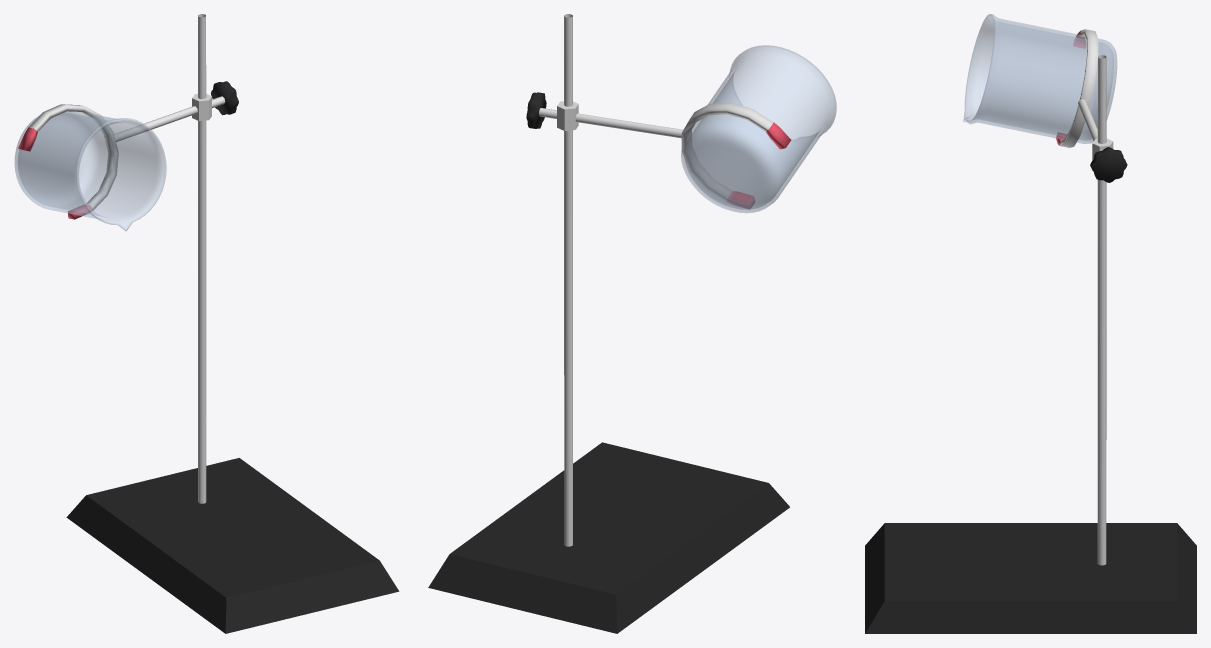
Rendered from emitter_beaker.glb.
3 renders of one model, left to right at view 1: azimuth 30°, elevation 25°; view 2: azimuth 150°, elevation 25°; view 3: azimuth 270°, elevation 25°, orthographic. The views are drawn at different scales.
Visible parts, largest first — view 1: Cube, Flask 2.002, NurbsPath.001, Circle.028, NurbsPath, Circle.030; view 2: Cube, Flask 2.002, NurbsPath.001, Circle.028, NurbsPath, Circle.030; view 3: Cube, Flask 2.002, NurbsPath.001, Circle.028, Circle.030.
Part boxes in pixels (bbox=[...]): Cube: bbox=[66, 458, 399, 633]; Flask 2.002: bbox=[14, 111, 166, 230]; NurbsPath.001: bbox=[198, 14, 206, 503]; Circle.028: bbox=[18, 104, 118, 219]; NurbsPath: bbox=[114, 96, 225, 141]; Circle.030: bbox=[211, 81, 238, 115]; Cube: bbox=[428, 442, 789, 633]; Flask 2.002: bbox=[681, 45, 836, 213]; NurbsPath.001: bbox=[564, 14, 572, 546]; Circle.028: bbox=[681, 102, 791, 208]; NurbsPath: bbox=[539, 108, 683, 138]; Circle.030: bbox=[526, 92, 546, 128]; Cube: bbox=[865, 523, 1196, 633]; Flask 2.002: bbox=[963, 14, 1117, 143]; NurbsPath.001: bbox=[1097, 55, 1106, 565]; Circle.028: bbox=[1056, 29, 1098, 147]; Circle.030: bbox=[1090, 147, 1127, 182].
Bounding box in the file's own units: 1.15 × 2.04 × 1.15.
